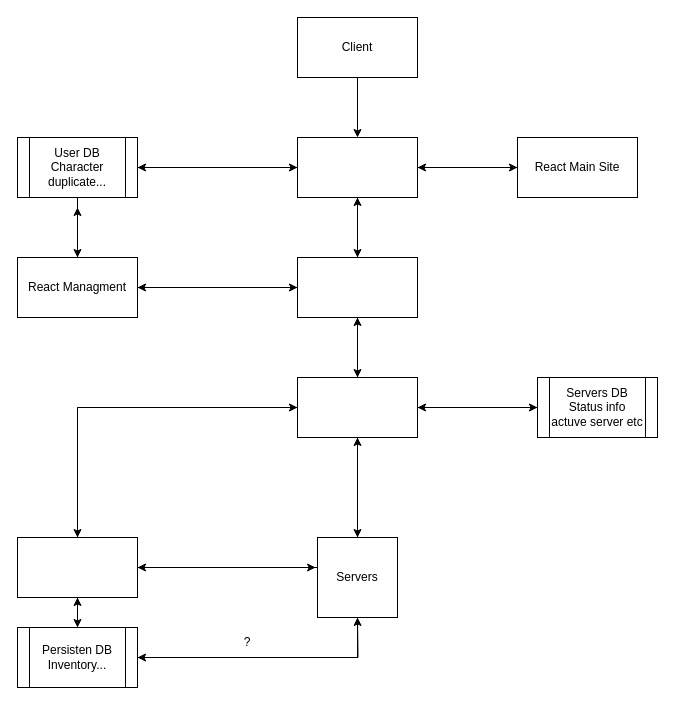
This 675x705 diagram has some shape labels left out. The centre of each missing label's shape, as x and y in pixels:
"InstanceAPI" belongs at point (357, 407).
"Login API" belongs at point (357, 167).
"ManagmentAPI" belongs at point (357, 287).
"Persistent API" belongs at point (77, 567).
